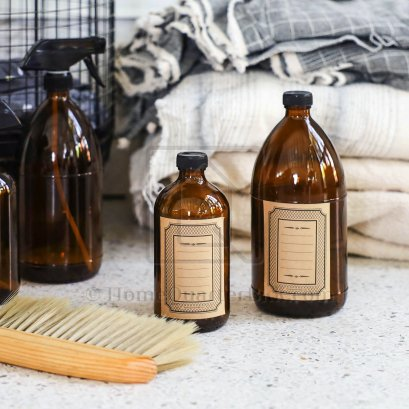glass_bottle: (11, 31, 114, 288), (247, 87, 350, 321), (150, 149, 231, 335)
